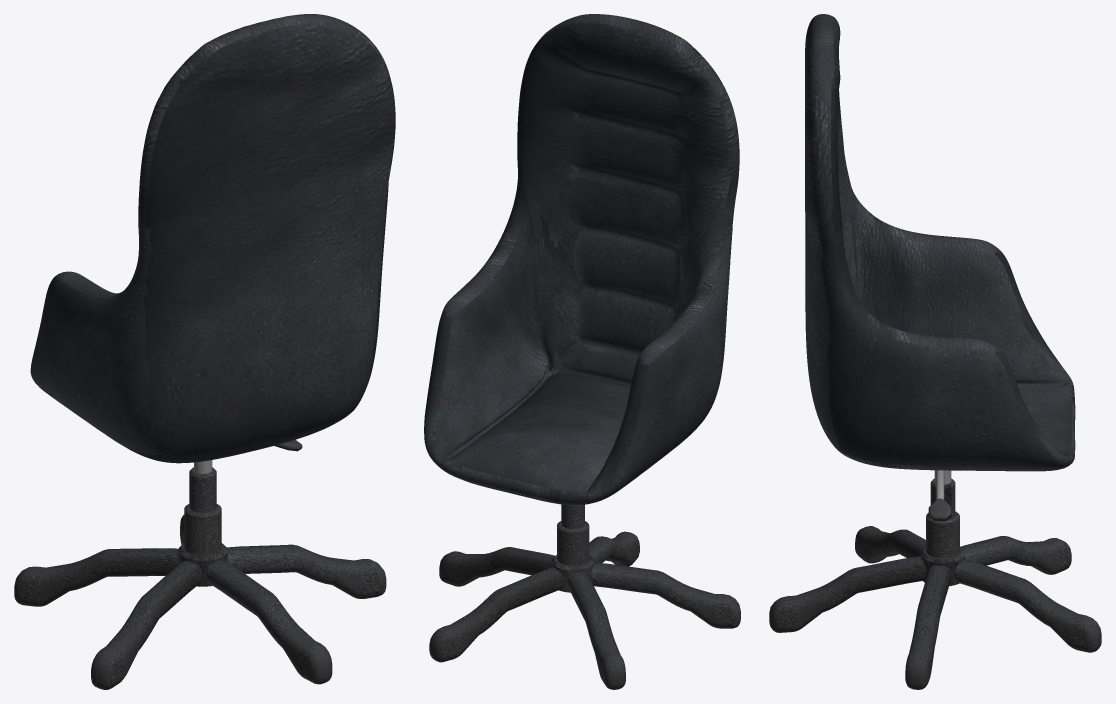
Rendered from chair.fbx.
The picture shows the model from 3 angles, left to right: view 1: azimuth 30°, elevation 25°; view 2: azimuth 150°, elevation 25°; view 3: azimuth 270°, elevation 25°; orthographic projection. The views are drawn at different scales.
Visible parts, largest first — view 1: Cube.001, Cube, Cylinder; view 2: Cube.001, Cube, Cylinder; view 3: Cube.001, Cube, Cylinder, Cube.002.
Part boxes in pixels (left/top/right/bottom): Cube.001: left=30, top=14, right=395, bottom=463; Cube: left=14, top=515, right=386, bottom=689; Cylinder: left=178, top=460, right=227, bottom=586; Cube.001: left=424, top=14, right=739, bottom=505; Cube: left=429, top=531, right=740, bottom=689; Cylinder: left=551, top=504, right=594, bottom=592; Cube.001: left=805, top=14, right=1075, bottom=471; Cube: left=769, top=526, right=1101, bottom=689; Cylinder: left=920, top=470, right=965, bottom=586; Cube.002: left=928, top=470, right=951, bottom=520.
Bounding box in the file's own units: 361 × 704 × 361.
Materials: 3 (2 with a texture image).
